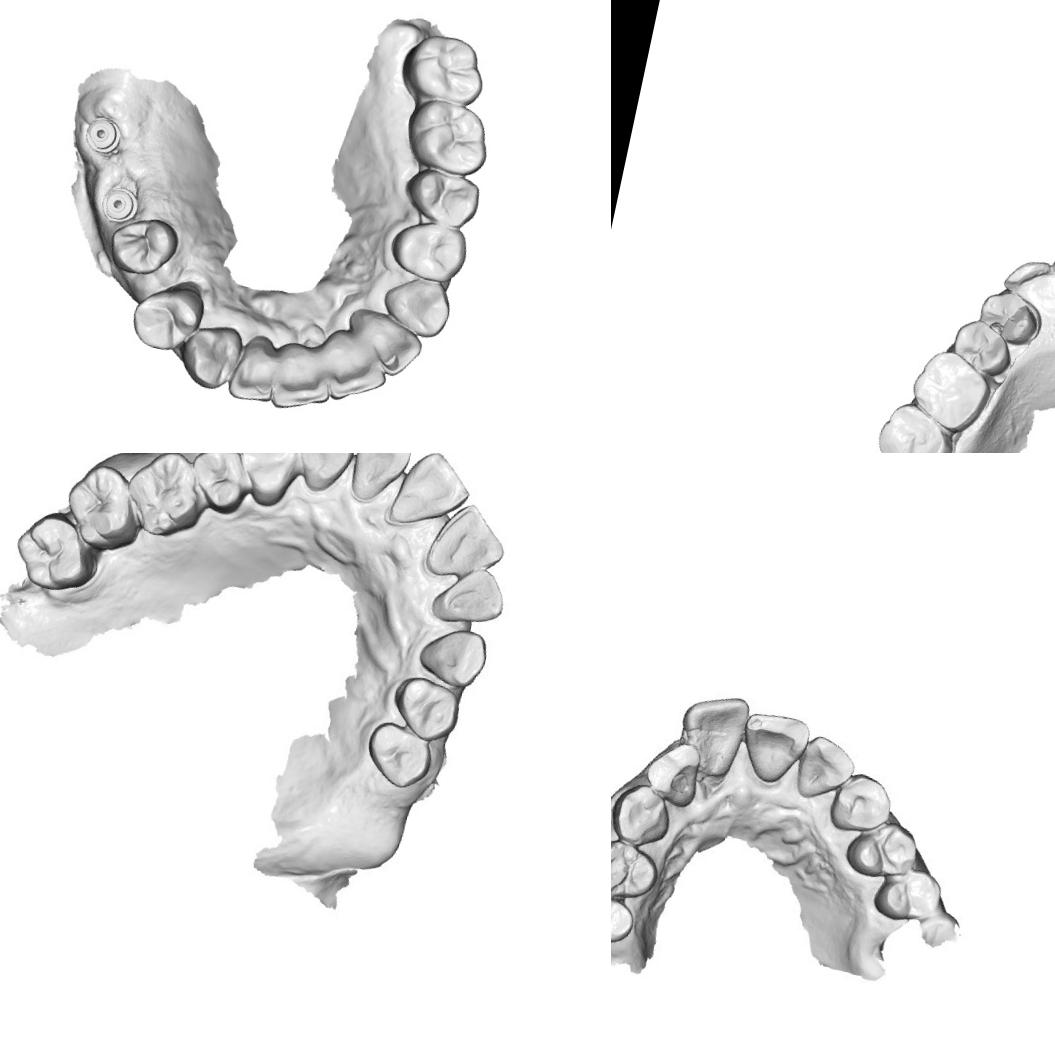canine: (374, 269, 458, 343), (414, 622, 494, 692), (824, 767, 897, 843), (174, 318, 246, 393), (611, 781, 679, 855), (288, 453, 362, 499), (1000, 252, 1054, 302)
implant: (78, 110, 127, 159), (96, 182, 142, 226)
incisor: (420, 497, 518, 589), (672, 684, 751, 784), (340, 304, 430, 383), (387, 453, 473, 533), (319, 326, 396, 411), (426, 558, 512, 634), (263, 339, 339, 420), (786, 728, 859, 805), (738, 708, 808, 788), (639, 737, 709, 809), (224, 333, 284, 407), (346, 453, 416, 512)
molar: (5, 507, 102, 605), (395, 92, 498, 184), (115, 453, 212, 549), (394, 24, 494, 114), (904, 344, 998, 439), (58, 458, 147, 556), (868, 396, 960, 453)
premolar: (384, 211, 473, 289), (126, 277, 210, 359), (397, 160, 486, 234), (358, 718, 436, 797), (102, 208, 182, 283), (388, 674, 464, 748), (842, 817, 922, 883), (869, 862, 944, 930), (948, 315, 1018, 380), (974, 286, 1045, 349), (189, 453, 256, 515), (235, 453, 301, 506), (611, 835, 661, 904), (611, 883, 643, 953)
